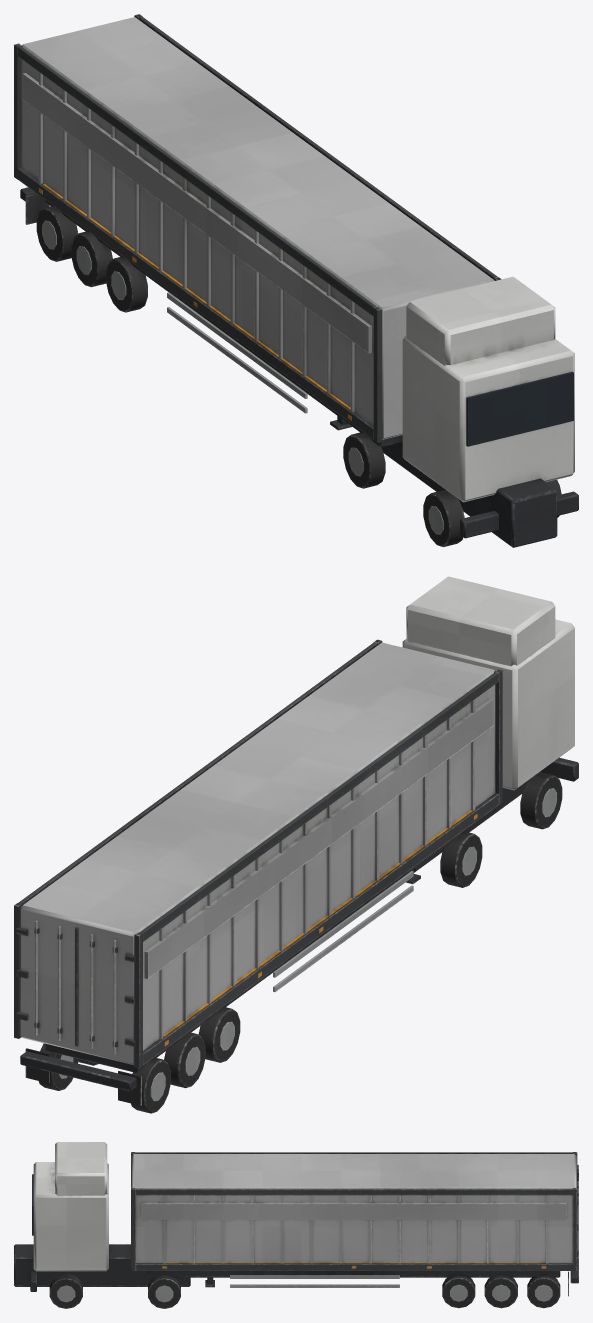
File: truck.glb
3 renders of one model, top to bottom at view 1: azimuth 30°, elevation 25°; view 2: azimuth 150°, elevation 25°; view 3: azimuth 270°, elevation 25°, orthographic. The views are drawn at different scales.
Visible parts, largest first — view 1: truck; view 2: truck; view 3: truck.
Boxes of the visible parts, x1,y1,x2,y2 form: truck: [14, 14, 578, 547]; truck: [14, 576, 578, 1113]; truck: [14, 1142, 578, 1308].
Bounding box in the file's own units: 2.73 × 4.55 × 17.28.
1 material, 1 textured.
